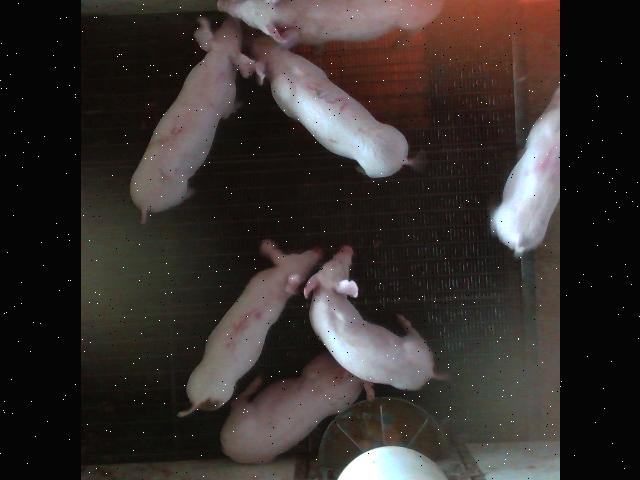pig-3: (250, 38, 417, 178)
pig-4: (490, 88, 559, 255)
pig-5: (178, 240, 321, 416)
